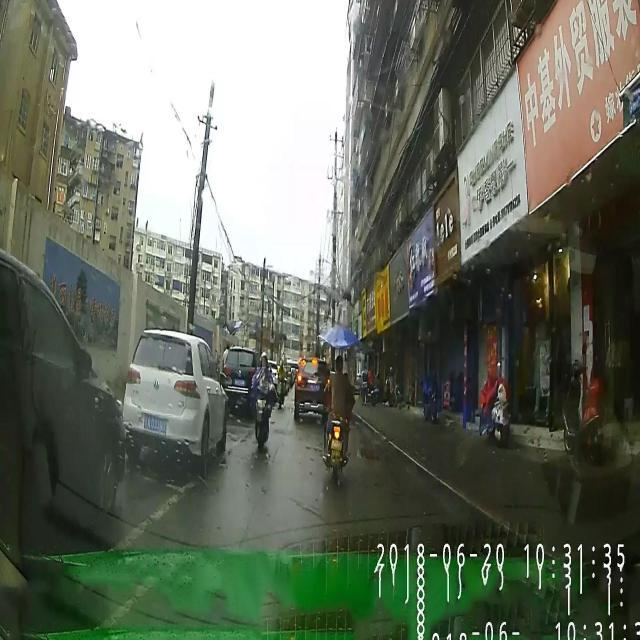car: (0, 248, 124, 540), (123, 328, 229, 464), (294, 356, 332, 422), (222, 346, 258, 414)
